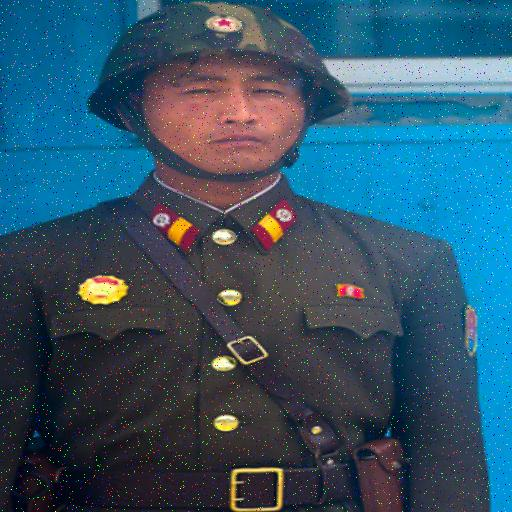north army: (5, 2, 512, 512)
